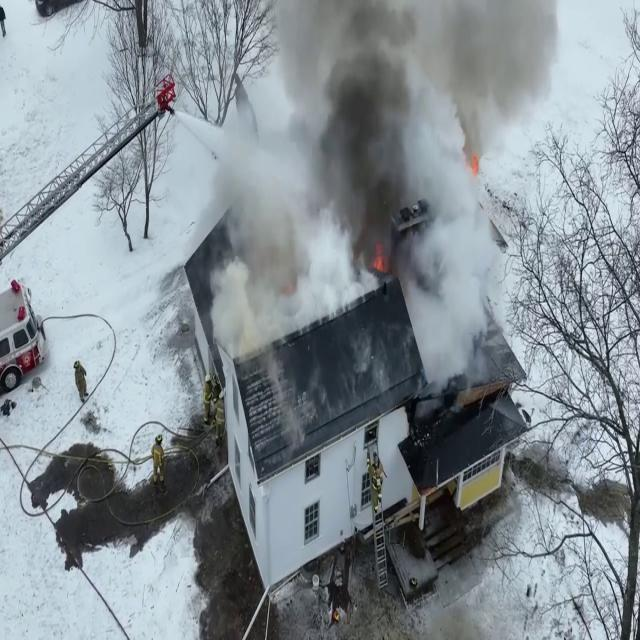Smoke: (217, 0, 548, 359)
